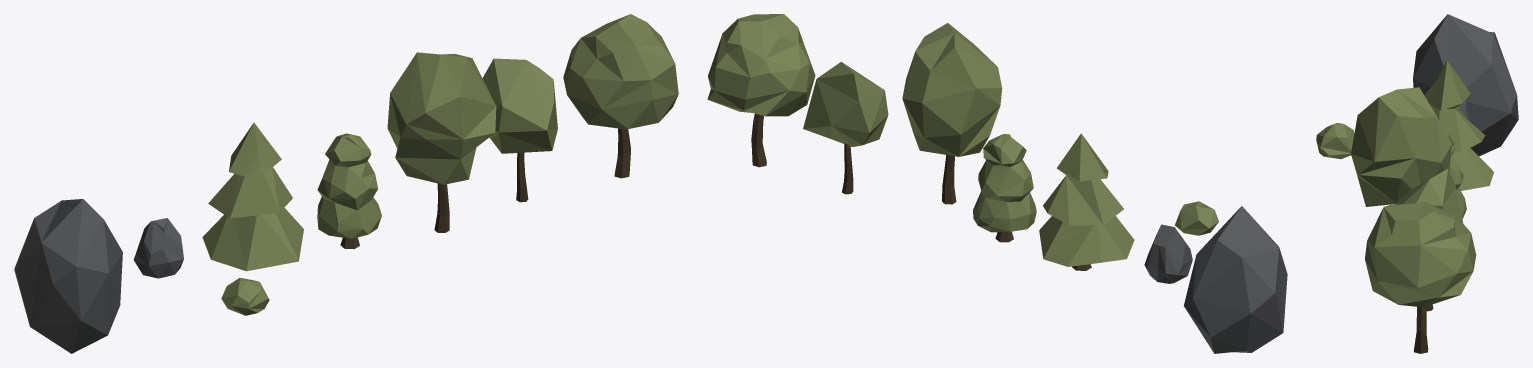
File: Nature01.fbx
3 renders of one model, left to right at view 1: azimuth 30°, elevation 25°; view 2: azimuth 150°, elevation 25°; view 3: azimuth 270°, elevation 25°, orthographic. The views are drawn at different scales.
Visible parts, largest first — view 1: pCube21, pCube19, pCube20, pCylinder12, pCylinder3, pCylinder11, polySurface16, polySurface13; view 2: pCube21, pCube19, pCube20, pCylinder12, pCylinder3, pCylinder11, polySurface16, polySurface13; view 3: pCube20, pCube19, pCube21, pCylinder12, pCylinder3, polySurface13, pCylinder11.
Boxes of the visible parts, <box> form: pCube21: <box>14,199,122,353</box>; pCube19: <box>387,52,496,232</box>; pCube20: <box>563,14,678,178</box>; pCylinder12: <box>202,122,303,271</box>; pCylinder3: <box>482,58,557,202</box>; pCylinder11: <box>317,133,381,249</box>; polySurface16: <box>133,218,183,278</box>; polySurface13: <box>221,278,269,315</box>; pCube21: <box>1184,206,1287,353</box>; pCube19: <box>902,23,1002,204</box>; pCube20: <box>707,14,815,167</box>; pCylinder12: <box>1039,133,1134,270</box>; pCylinder3: <box>803,61,888,194</box>; pCylinder11: <box>973,134,1036,242</box>; polySurface16: <box>1144,224,1192,283</box>; polySurface13: <box>1174,201,1218,235</box>; pCube20: <box>1365,202,1476,353</box>; pCube19: <box>1351,87,1451,206</box>; pCube21: <box>1413,14,1518,156</box>; pCylinder12: <box>1424,60,1493,190</box>; pCylinder3: <box>1396,168,1463,311</box>; polySurface13: <box>1316,123,1354,159</box>; pCylinder11: <box>1445,131,1466,219</box>.
Bounding box in the file's own units: 21.38 × 7.66 × 6.2.
